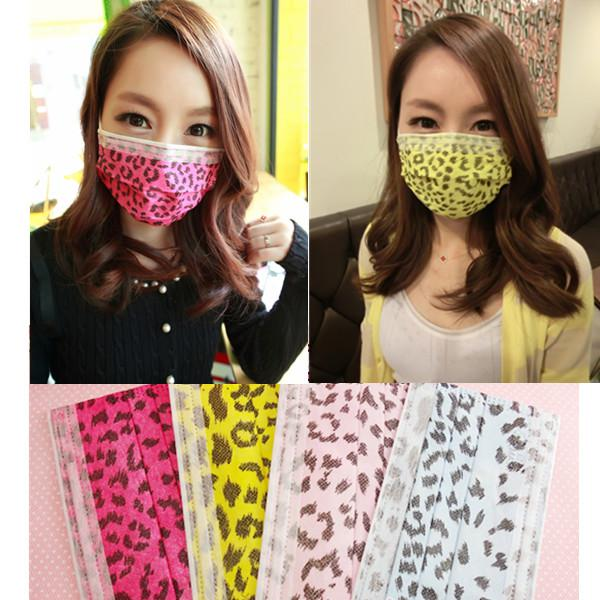OK: (102, 89, 235, 222), (394, 92, 519, 217)
